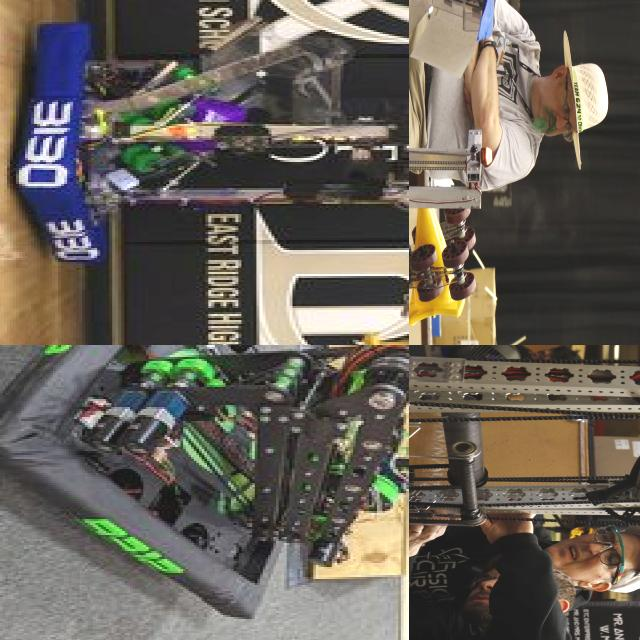FRC-Robots: (0, 0, 409, 325), (0, 345, 409, 635), (409, 345, 640, 559), (409, 0, 502, 345)
